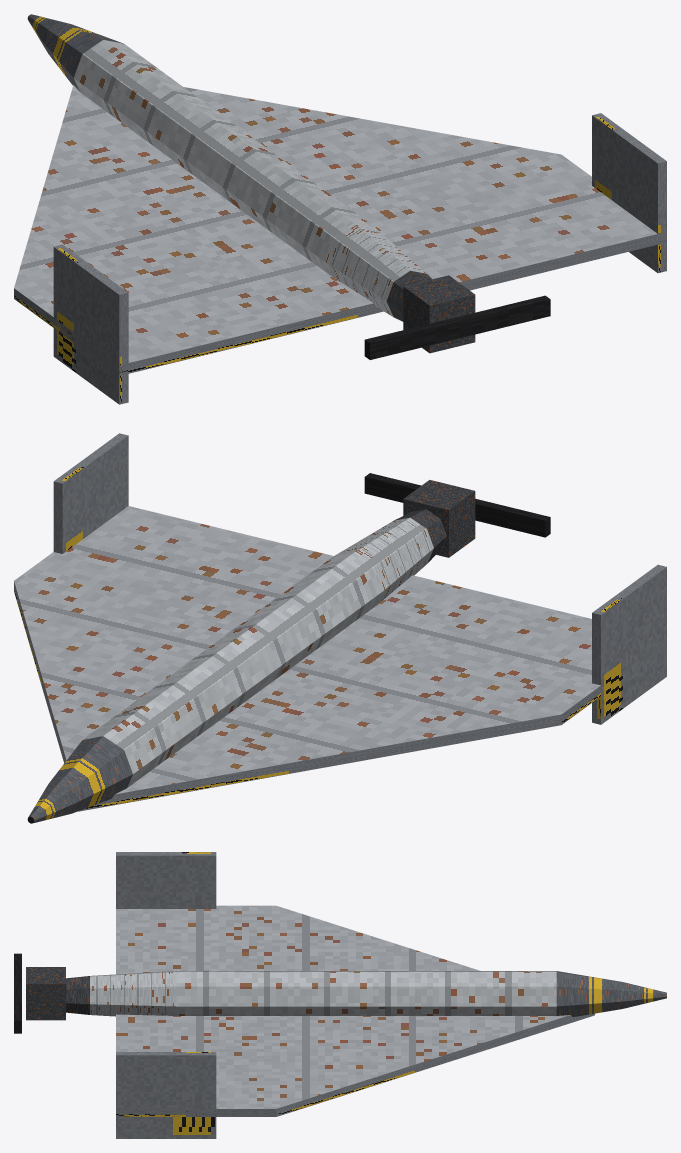
File: shahed_136_pilot.glb
3 renders of one model, top to bottom at view 1: azimuth 30°, elevation 25°; view 2: azimuth 150°, elevation 25°; view 3: azimuth 270°, elevation 25°, orthographic. The views are drawn at different scales.
Parts seen in each view (by area): view 1: airframe, prop1; view 2: airframe, prop1; view 3: airframe, prop1.
Boxes of the visible parts, left/top/right/bottom form: airframe: left=14, top=14, right=666, bottom=404; prop1: left=364, top=295, right=550, bottom=359; airframe: left=14, top=433, right=666, bottom=823; prop1: left=364, top=473, right=550, bottom=537; airframe: left=26, top=852, right=666, bottom=1138; prop1: left=14, top=953, right=21, bottom=1033.
Size of the model in its own units: 2.4 by 0.46 by 3.26.
1 material, 1 textured.
